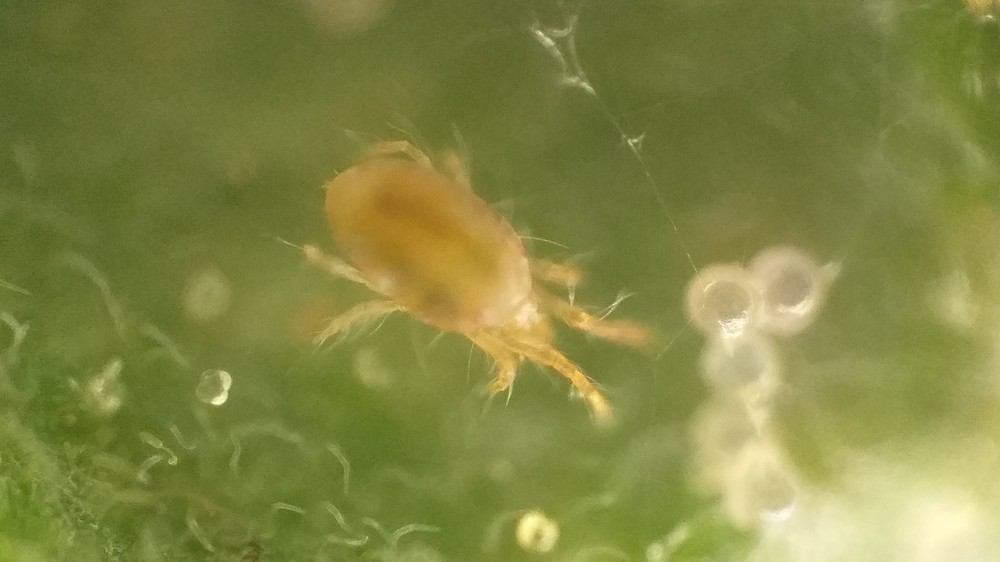Aracnido Rojo: (294, 117, 664, 444)
